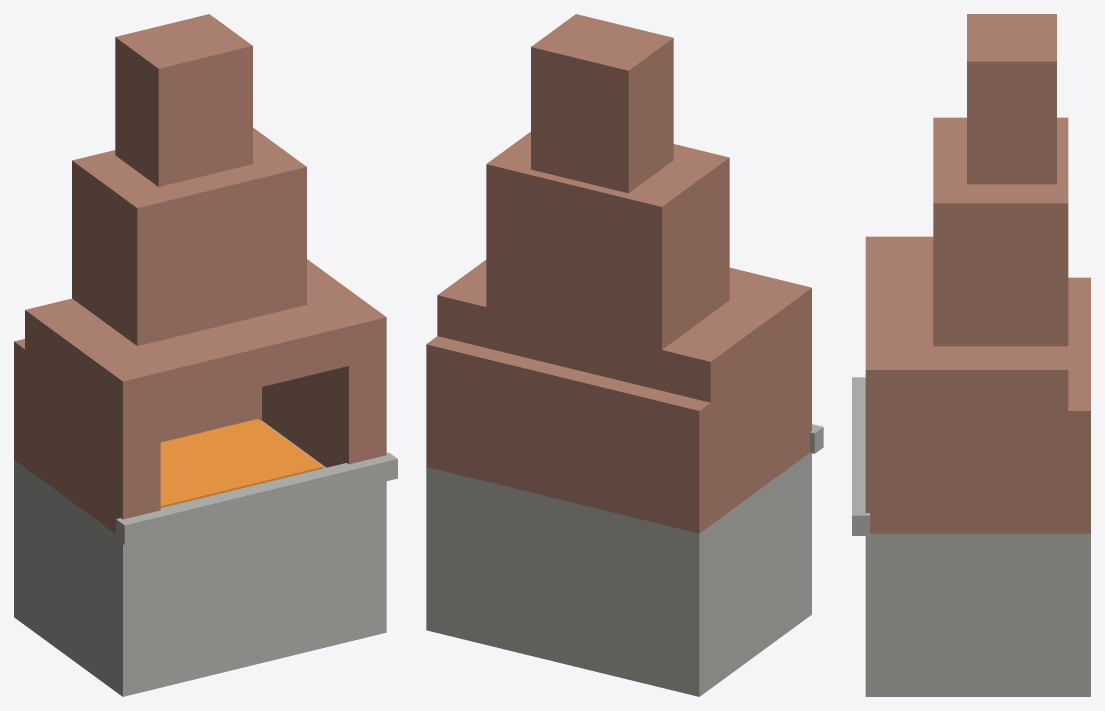
File: prop-forge-hearth.fbx
3 renders of one model, left to right at view 1: azimuth 30°, elevation 25°; view 2: azimuth 150°, elevation 25°; view 3: azimuth 270°, elevation 25°, orthographic. The views are drawn at different scales.
Parts seen in each view (by area): view 1: prop-forge-hearth; view 2: prop-forge-hearth; view 3: prop-forge-hearth.
Part boxes in pixels (bbox=[...]): prop-forge-hearth: bbox=[14, 14, 397, 696]; prop-forge-hearth: bbox=[426, 14, 823, 696]; prop-forge-hearth: bbox=[852, 14, 1090, 696].
Size of the model in its own units: 1.45 by 2.9 by 1.06.
